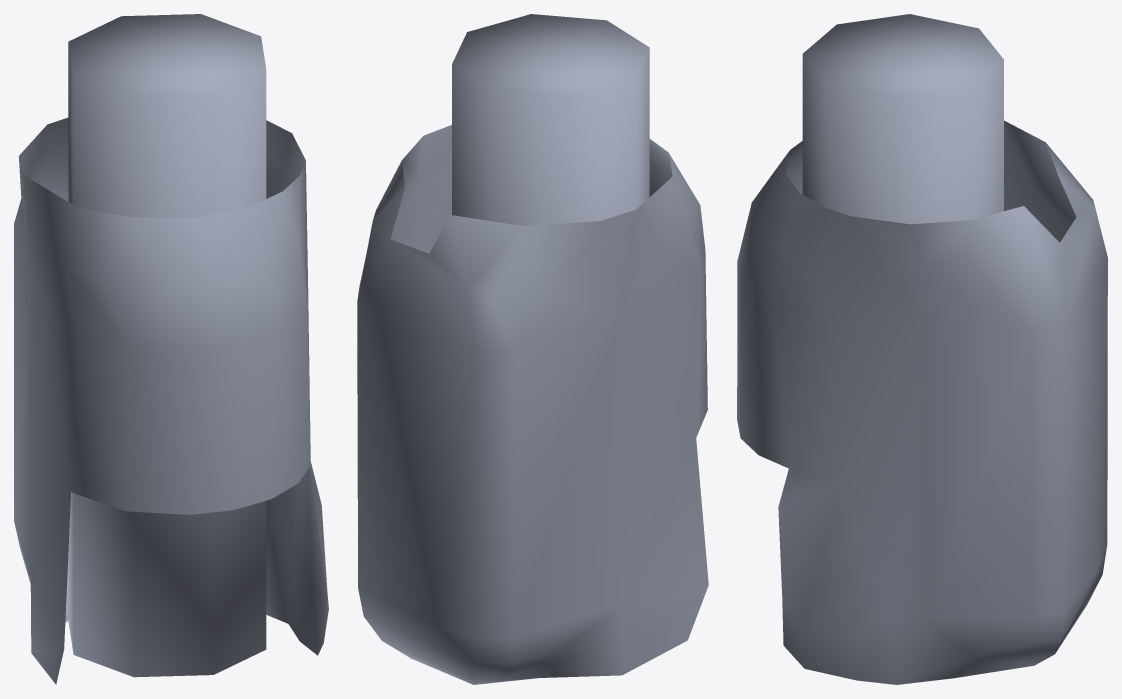
The model's file is l_arm.dae.
The picture shows the model from 3 angles, left to right: view 1: azimuth 30°, elevation 25°; view 2: azimuth 150°, elevation 25°; view 3: azimuth 270°, elevation 25°; orthographic projection. The views are drawn at different scales.
Parts seen in each view (by area): view 1: l_arm_mesh; view 2: l_arm_mesh; view 3: l_arm_mesh.
Boxes of the visible parts, <box> form: l_arm_mesh: <box>14,14,328,684</box>; l_arm_mesh: <box>357,14,708,684</box>; l_arm_mesh: <box>737,14,1107,684</box>.
Size of the model in its own units: 0.0751 by 0.0938 by 0.16.
